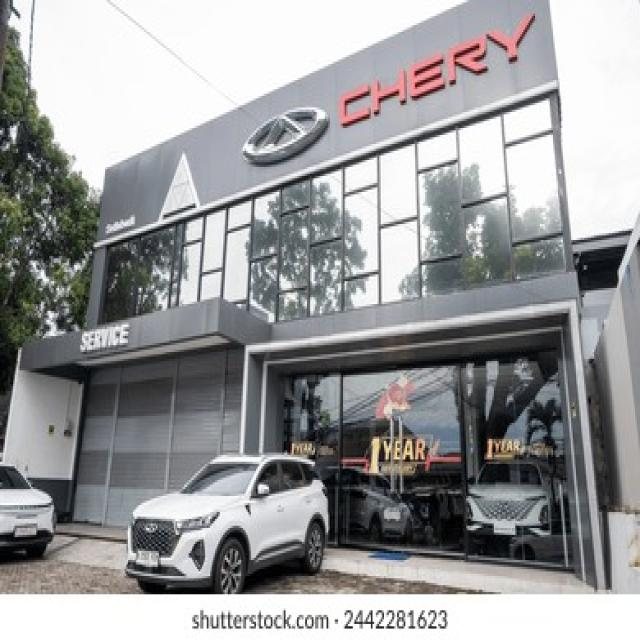cherry: (243, 106, 322, 168)
